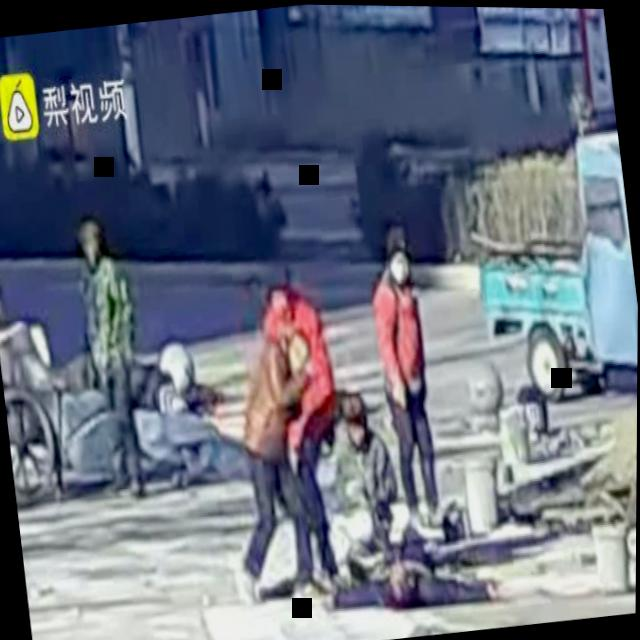Fall-Detected: (303, 487, 510, 631)
